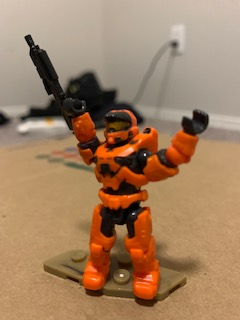rifle: (22, 34, 87, 135)
spartan: (60, 94, 211, 301)
up: (62, 97, 213, 194)
